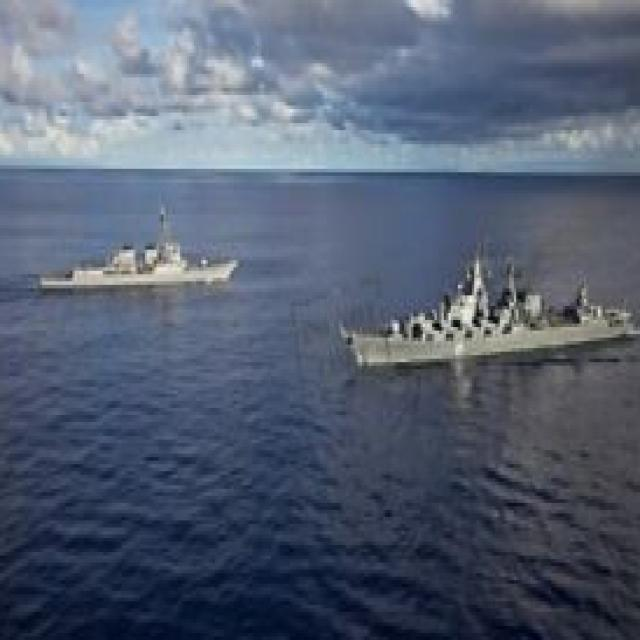navalvessels: (348, 239, 640, 366), (39, 214, 240, 304)
